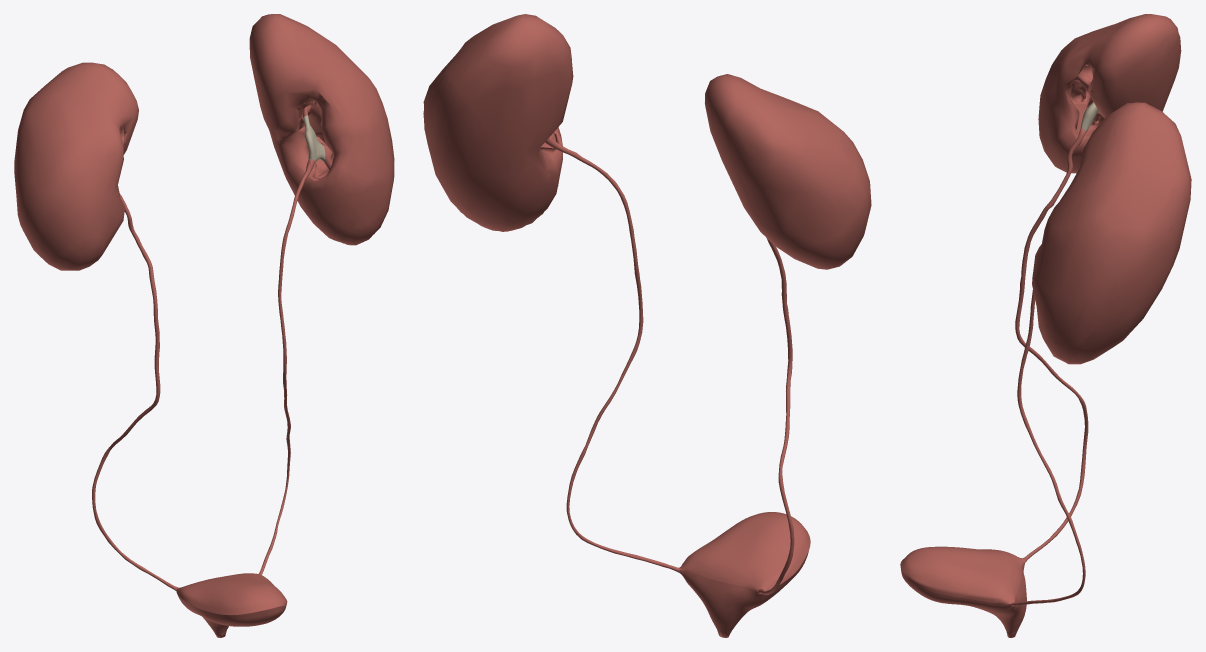
File: adult_female.urinary.LOD2.glb
3 views of the same model, side by side, from view 1: azimuth 30°, elevation 25°; view 2: azimuth 150°, elevation 25°; view 3: azimuth 270°, elevation 25° (orthographic). The views are drawn at different scales.
Parts seen in each view (by area): view 1: ADULT.FEMALE.URINARY.KIDNEY_CAPSULE.L, ADULT.FEMALE.URINARY.KIDNEY_CAPSULE.R, ADULT.FEMALE.URINARY.FUNDUS_OF_URINARY_BLADDER_DOME, ADULT.FEMALE.URINARY.URETER.R, ADULT.FEMALE.URINARY.URETER.L, ADULT.FEMALE.URINARY.FUNDUS_OF_URINARY_BLADDER_BASE, ADULT.FEMALE.URINARY.HILUM_OF_KIDNEY.L, ADULT.FEMALE.URINARY.OUTER_CORTEX_OF_KIDNEY.L, ADULT.FEMALE.URINARY.RENAL_PELVIS.L; view 2: ADULT.FEMALE.URINARY.KIDNEY_CAPSULE.L, ADULT.FEMALE.URINARY.KIDNEY_CAPSULE.R, ADULT.FEMALE.URINARY.FUNDUS_OF_URINARY_BLADDER_DOME, ADULT.FEMALE.URINARY.FUNDUS_OF_URINARY_BLADDER_BASE, ADULT.FEMALE.URINARY.URETER.L, ADULT.FEMALE.URINARY.OUTER_CORTEX_OF_KIDNEY.L, ADULT.FEMALE.URINARY.URETER.R; view 3: ADULT.FEMALE.URINARY.KIDNEY_CAPSULE.L, ADULT.FEMALE.URINARY.KIDNEY_CAPSULE.R, ADULT.FEMALE.URINARY.FUNDUS_OF_URINARY_BLADDER_DOME, ADULT.FEMALE.URINARY.OUTER_CORTEX_OF_KIDNEY.L, ADULT.FEMALE.URINARY.URETER.R, ADULT.FEMALE.URINARY.FUNDUS_OF_URINARY_BLADDER_BASE, ADULT.FEMALE.URINARY.URETER.L, ADULT.FEMALE.URINARY.HILUM_OF_KIDNEY.R.
Boxes of the visible parts, x1,y1,x2,y2 form: ADULT.FEMALE.URINARY.KIDNEY_CAPSULE.L: (249, 14, 394, 245); ADULT.FEMALE.URINARY.KIDNEY_CAPSULE.R: (14, 62, 138, 270); ADULT.FEMALE.URINARY.FUNDUS_OF_URINARY_BLADDER_DOME: (176, 573, 287, 615); ADULT.FEMALE.URINARY.URETER.R: (92, 193, 177, 590); ADULT.FEMALE.URINARY.URETER.L: (258, 159, 315, 574); ADULT.FEMALE.URINARY.FUNDUS_OF_URINARY_BLADDER_BASE: (177, 594, 285, 633); ADULT.FEMALE.URINARY.HILUM_OF_KIDNEY.L: (280, 83, 333, 178); ADULT.FEMALE.URINARY.OUTER_CORTEX_OF_KIDNEY.L: (269, 34, 390, 244); ADULT.FEMALE.URINARY.RENAL_PELVIS.L: (303, 115, 325, 161); ADULT.FEMALE.URINARY.KIDNEY_CAPSULE.L: (423, 14, 573, 231); ADULT.FEMALE.URINARY.KIDNEY_CAPSULE.R: (705, 74, 871, 269); ADULT.FEMALE.URINARY.FUNDUS_OF_URINARY_BLADDER_DOME: (679, 512, 810, 592); ADULT.FEMALE.URINARY.FUNDUS_OF_URINARY_BLADDER_BASE: (679, 551, 808, 633); ADULT.FEMALE.URINARY.URETER.L: (545, 135, 679, 572); ADULT.FEMALE.URINARY.OUTER_CORTEX_OF_KIDNEY.L: (423, 49, 571, 231); ADULT.FEMALE.URINARY.URETER.R: (758, 238, 794, 594); ADULT.FEMALE.URINARY.KIDNEY_CAPSULE.L: (1032, 102, 1191, 364); ADULT.FEMALE.URINARY.KIDNEY_CAPSULE.R: (1038, 14, 1181, 173); ADULT.FEMALE.URINARY.FUNDUS_OF_URINARY_BLADDER_DOME: (900, 546, 1025, 603); ADULT.FEMALE.URINARY.OUTER_CORTEX_OF_KIDNEY.L: (1035, 129, 1189, 362); ADULT.FEMALE.URINARY.URETER.R: (1015, 128, 1088, 561); ADULT.FEMALE.URINARY.FUNDUS_OF_URINARY_BLADDER_BASE: (900, 562, 1026, 632); ADULT.FEMALE.URINARY.URETER.L: (1011, 290, 1085, 606); ADULT.FEMALE.URINARY.HILUM_OF_KIDNEY.R: (1067, 65, 1103, 136).
Size of the model in its own units: 0.2219 by 0.3188 by 0.142.
